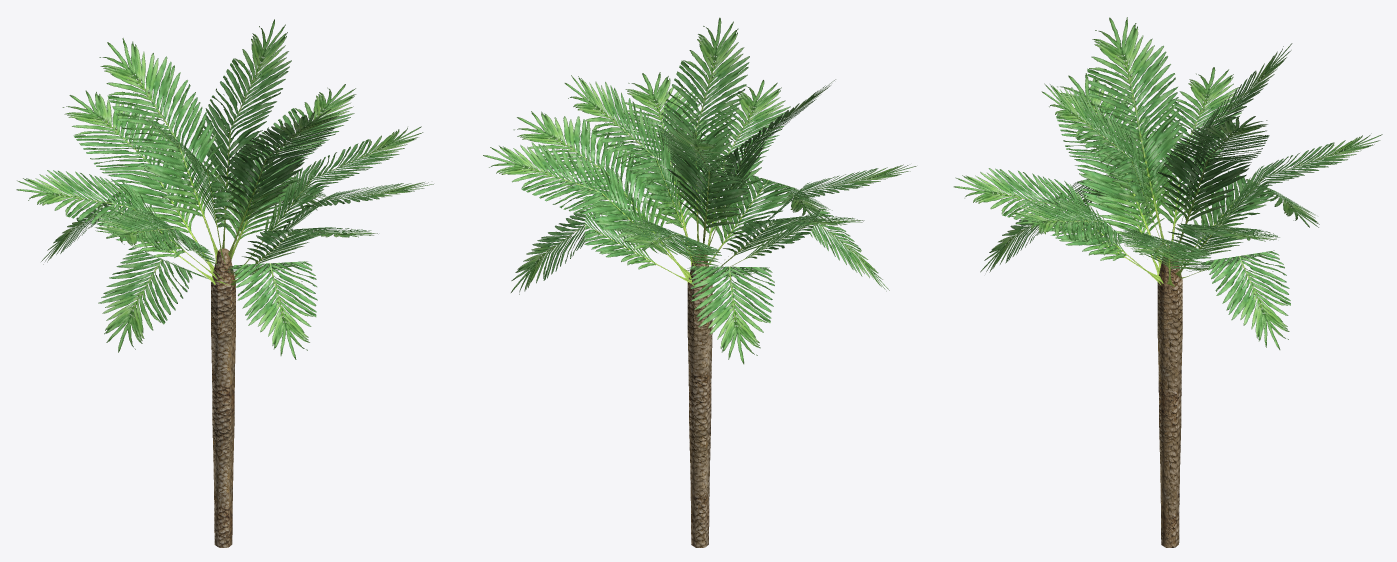
File: HyPV2_LOD1.fbx
3 renders of one model, left to right at view 1: azimuth 30°, elevation 25°; view 2: azimuth 150°, elevation 25°; view 3: azimuth 270°, elevation 25°, orthographic.
Parts seen in each view (by area): view 1: Mesh Object; view 2: Mesh Object; view 3: Mesh Object.
Part boxes in pixels (bbox=[...]): Mesh Object: bbox=[16, 19, 433, 547]; Mesh Object: bbox=[483, 17, 916, 547]; Mesh Object: bbox=[953, 17, 1382, 547].
Size of the model in its own units: 12.49 by 14.45 by 11.78.
